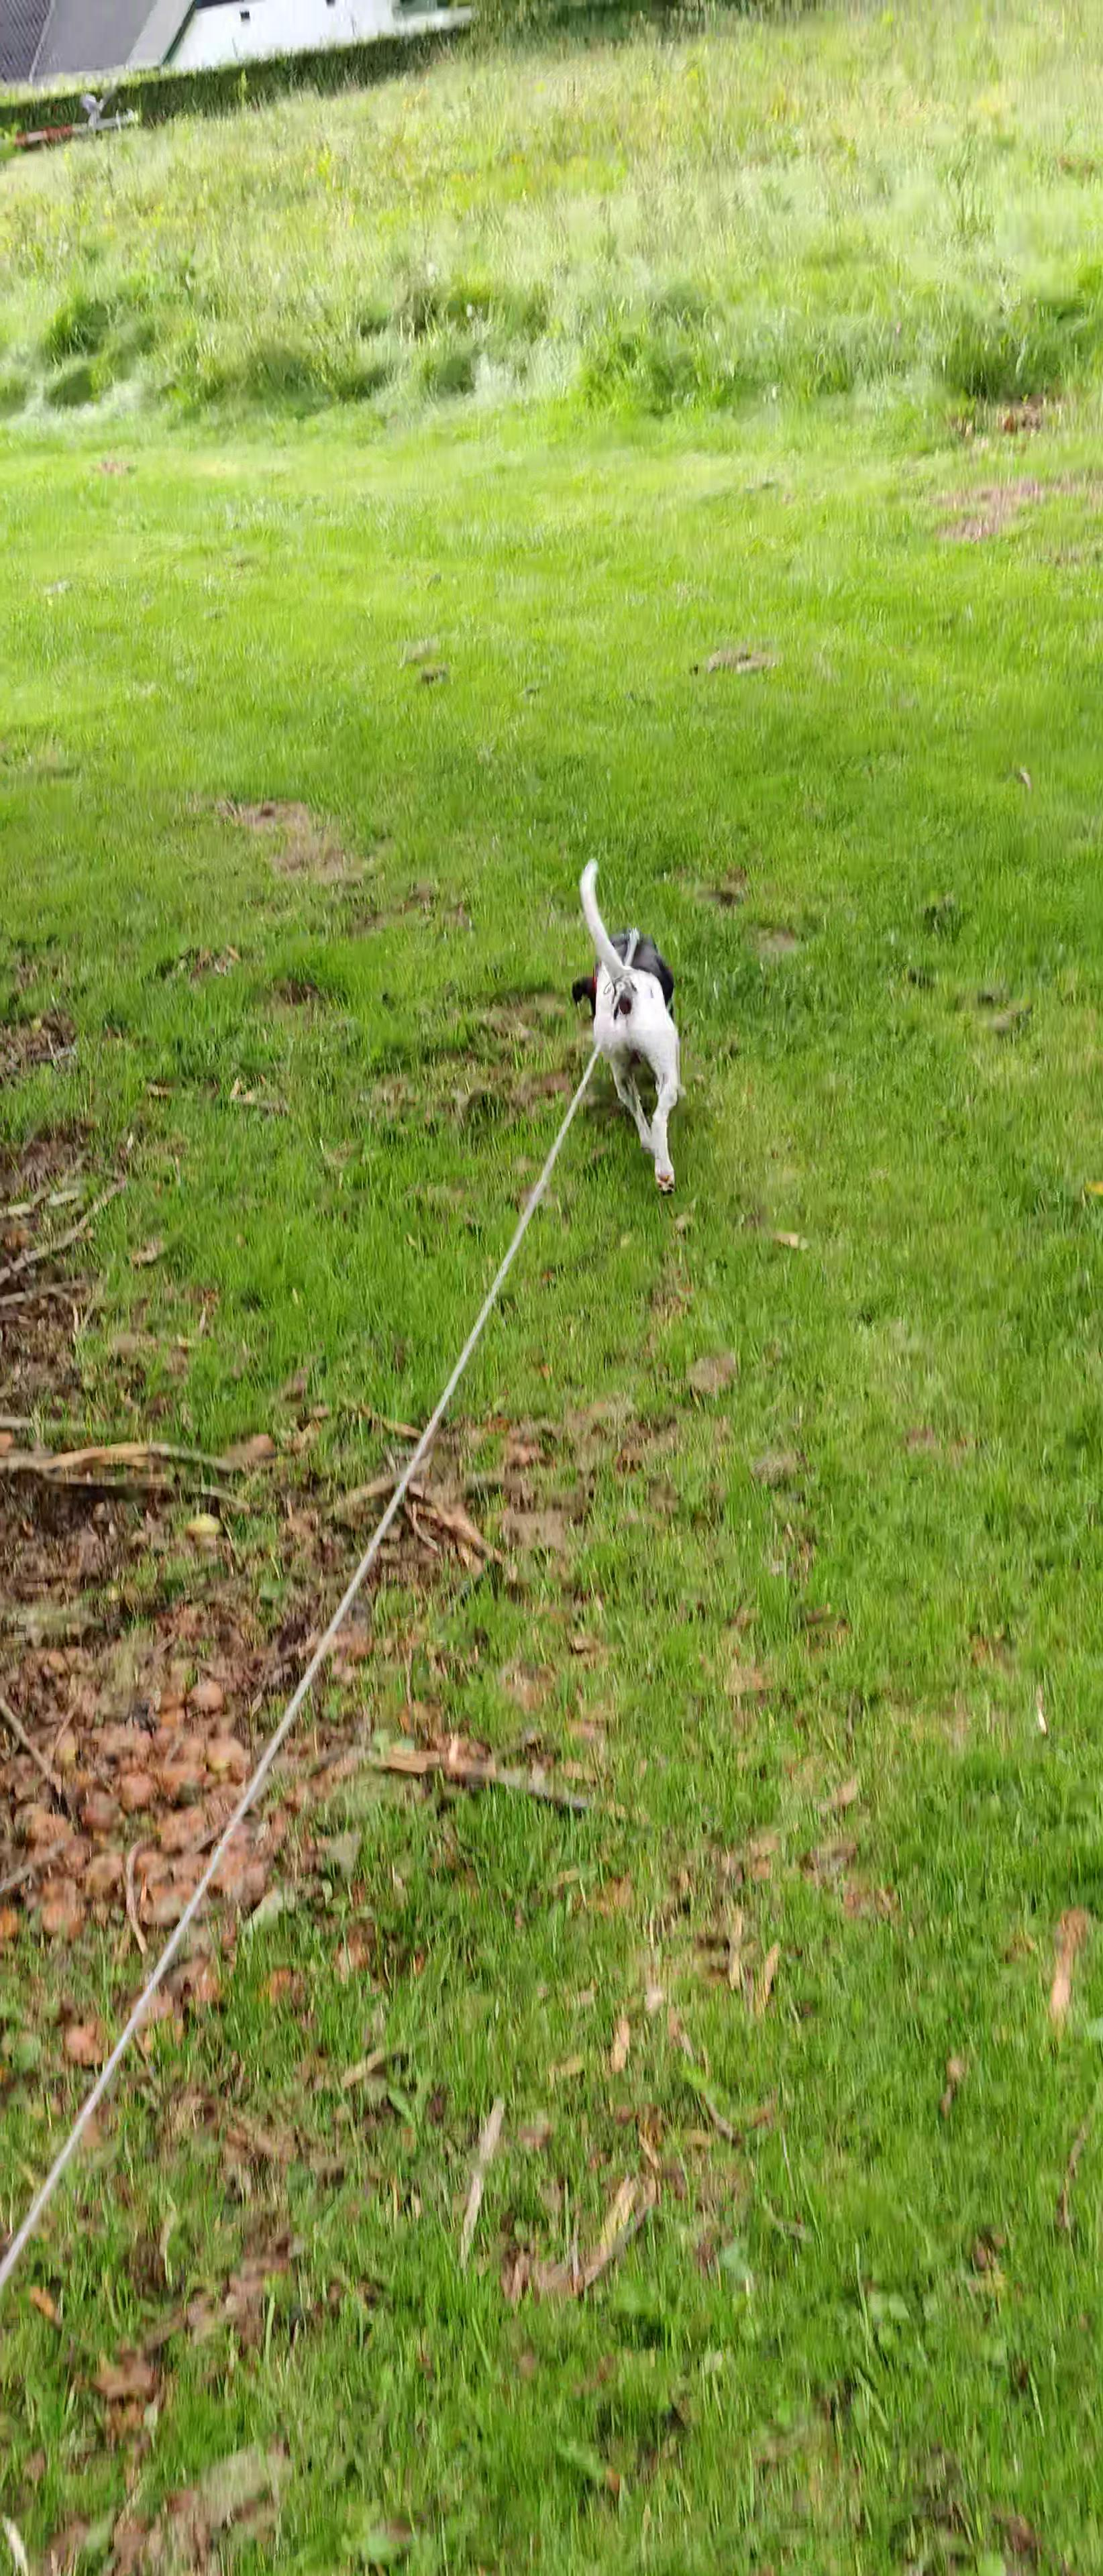Dog: (562, 844, 692, 1206)
